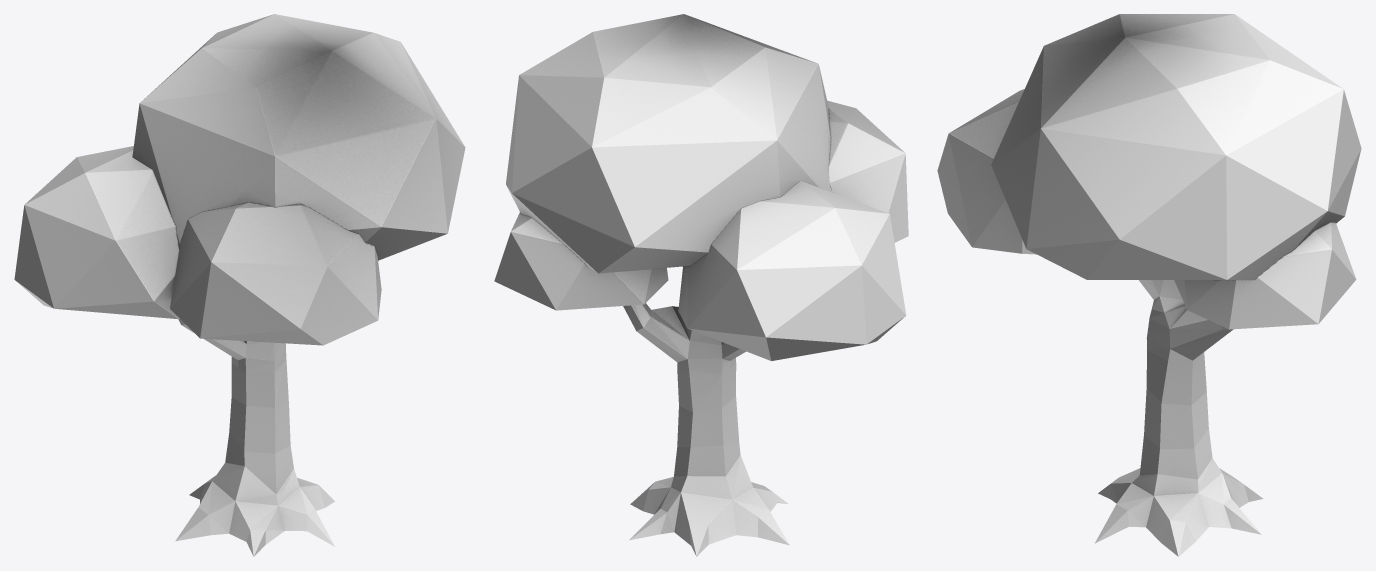
The model's file is Tree 4.fbx.
3 renders of one model, left to right at view 1: azimuth 30°, elevation 25°; view 2: azimuth 150°, elevation 25°; view 3: azimuth 270°, elevation 25°, orthographic. The views are drawn at different scales.
Parts seen in each view (by area): view 1: Icosphere.003; view 2: Icosphere.003; view 3: Icosphere.003.
Boxes of the visible parts, bbox=[...] form: Icosphere.003: bbox=[14, 14, 465, 556]; Icosphere.003: bbox=[494, 14, 908, 556]; Icosphere.003: bbox=[937, 14, 1361, 556].
Bounding box in the file's own units: 1016 × 1232 × 925.
